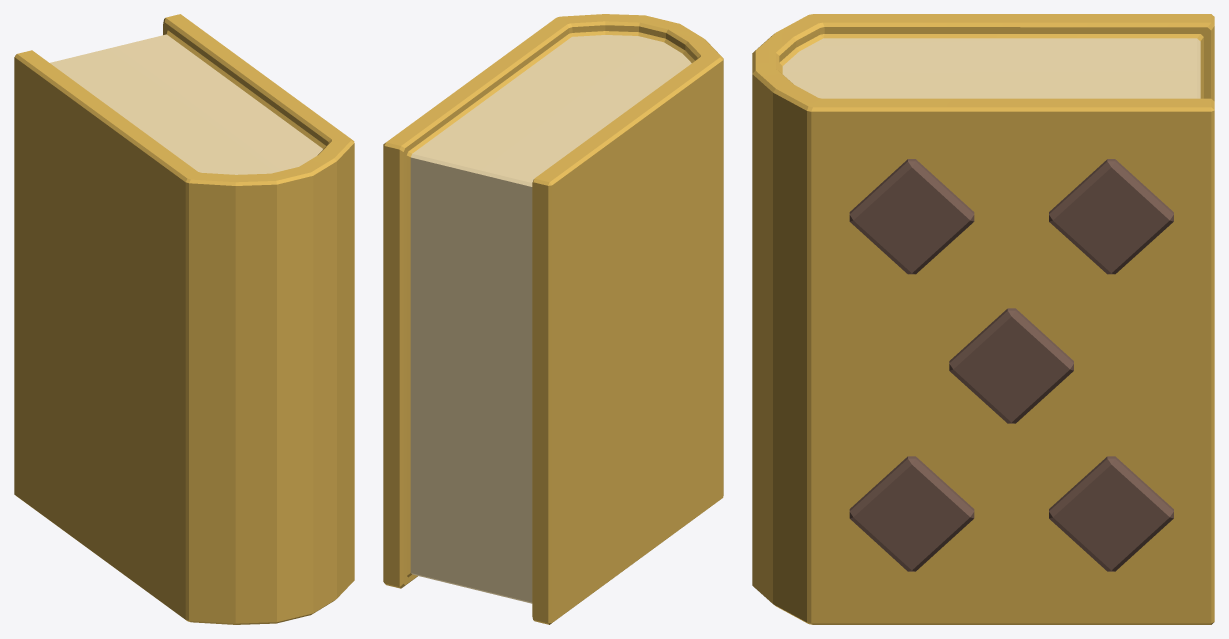
The model's file is book_8.fbx.
3 views of the same model, side by side, from view 1: azimuth 30°, elevation 25°; view 2: azimuth 150°, elevation 25°; view 3: azimuth 270°, elevation 25° (orthographic). The views are drawn at different scales.
Parts seen in each view (by area): view 1: book_8; view 2: book_8; view 3: book_8.
Part boxes in pixels (x1,y1,x2,y2): book_8: (14,14,354,624); book_8: (383,14,723,624); book_8: (752,14,1214,624).
Bounding box in the file's own units: 0.6548 × 1.57 × 1.27.
